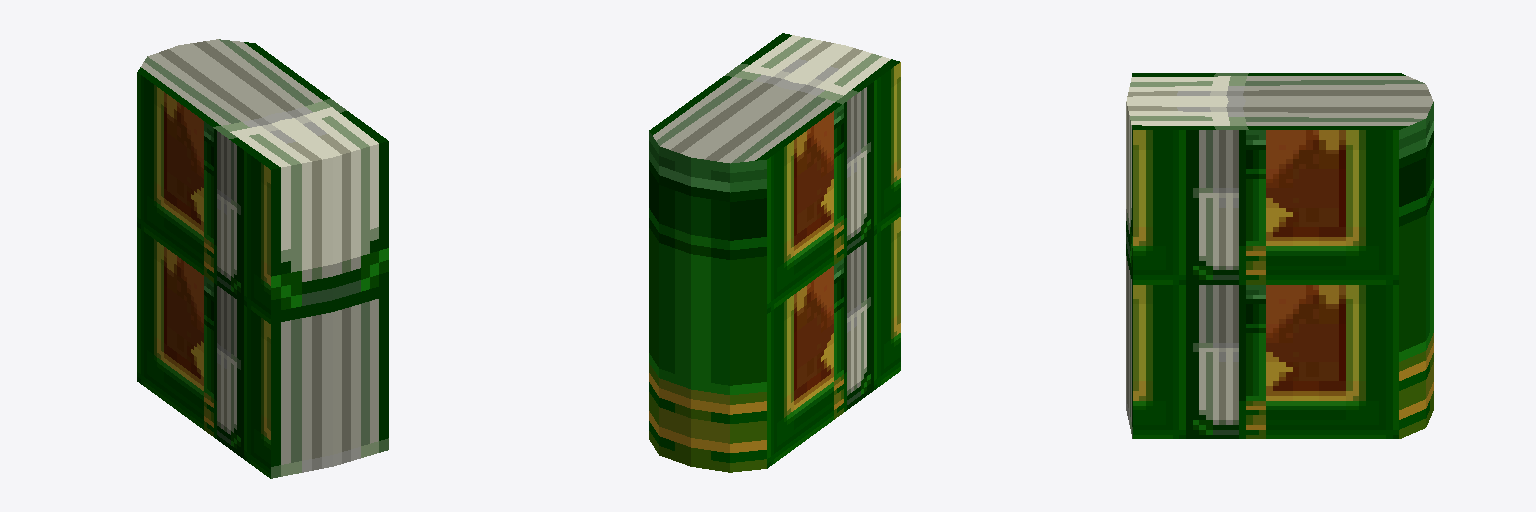
3 views of the same model, side by side, from view 1: azimuth 30°, elevation 25°; view 2: azimuth 150°, elevation 25°; view 3: azimuth 270°, elevation 25° (orthographic).
Visible parts, largest first — view 1: nom_book_model; view 2: nom_book_model; view 3: nom_book_model.
Boxes of the visible parts, x1,y1,x2,y2 form: nom_book_model: [137, 39, 388, 478]; nom_book_model: [649, 33, 900, 472]; nom_book_model: [1126, 73, 1433, 438].
Size of the model in its own units: 5 by 12.5 by 11.25.
Materials: 1 (1 with a texture image).